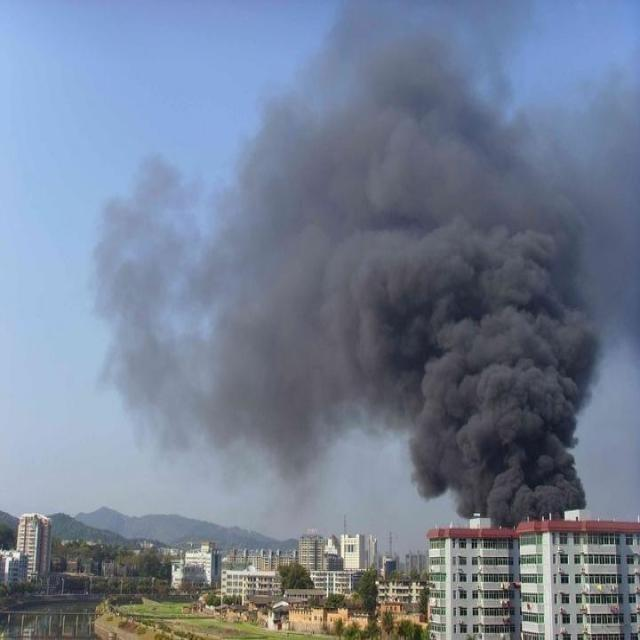Smoke: (84, 1, 640, 531)
